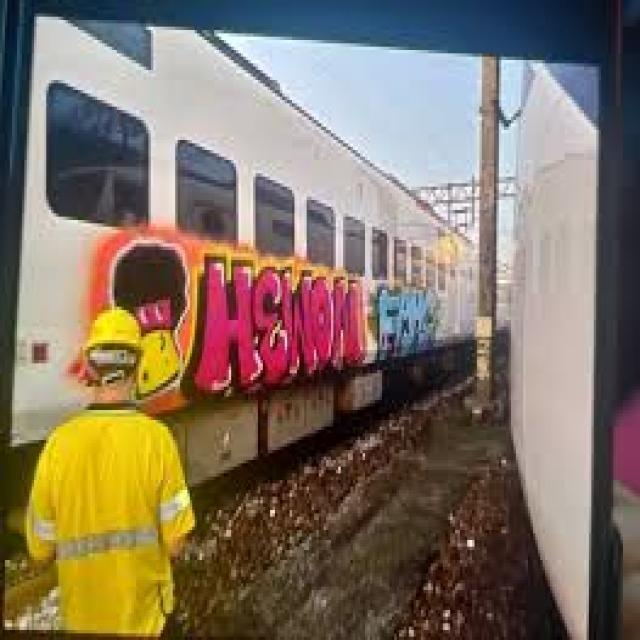-: (93, 230, 365, 404), (377, 284, 439, 358)
